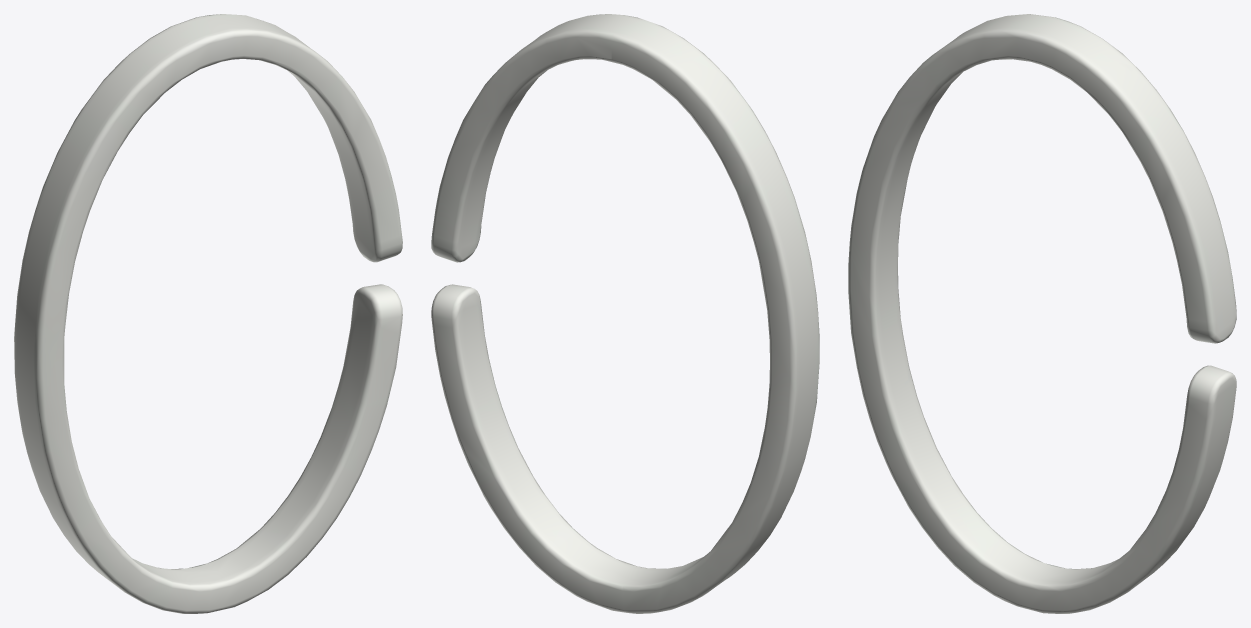
Rendered from hassjon_koko_do_zasony_prysznicowej_00466008.glb.
The picture shows the model from 3 angles, left to right: view 1: azimuth 30°, elevation 25°; view 2: azimuth 150°, elevation 25°; view 3: azimuth 330°, elevation 25°; orthographic projection.
Visible parts, largest first — view 1: hassjon_koko_do_zasony_prysznicowej_00466008; view 2: hassjon_koko_do_zasony_prysznicowej_00466008; view 3: hassjon_koko_do_zasony_prysznicowej_00466008.
Boxes of the visible parts, box(x1,y1,x2,y2) form: hassjon_koko_do_zasony_prysznicowej_00466008: box(14, 14, 402, 613); hassjon_koko_do_zasony_prysznicowej_00466008: box(431, 14, 819, 613); hassjon_koko_do_zasony_prysznicowej_00466008: box(848, 14, 1236, 613).
Bounding box in the file's own units: 0.04 × 0.06 × 0.00502.
1 material, 1 textured.
